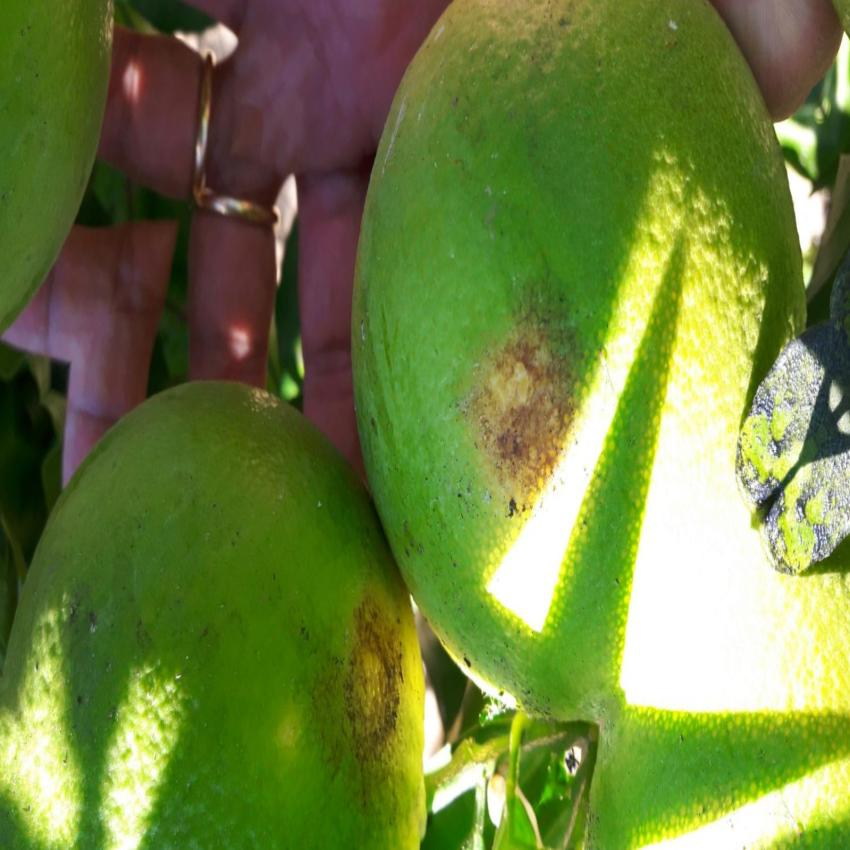Mal estado: (347, 0, 820, 774), (0, 384, 434, 839)
